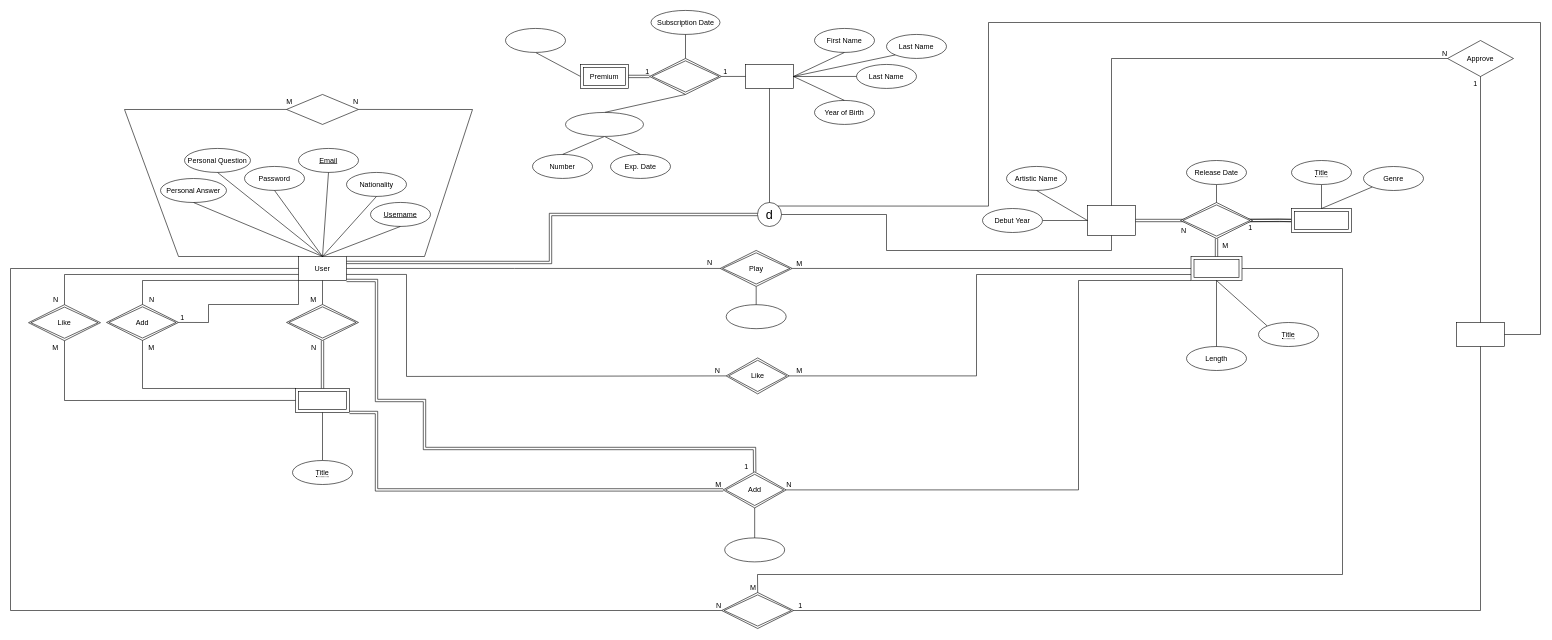
This 1552x640 diagram has some shape labels left out. Each missing label, with the centre of its shape:
"Admin" goes at point 1480,334.
"Album" goes at point 1321,220.
"Artist" goes at point 1111,220.
"Create" goes at point 322,322.
"Credit Card Info" goes at point 604,124.
"Date Added" goes at point 754,549.
"Date Played" goes at point 756,316.
"Duration" goes at point 535,40.
"Follow" goes at point 322,109.
"Listener" goes at point 769,76.
"Playlist" goes at point 322,400.
"Release" goes at point 1216,220.
"Report" goes at point 757,610.
"Song" goes at point 1216,268.
"Subscribe" goes at point 685,76.
